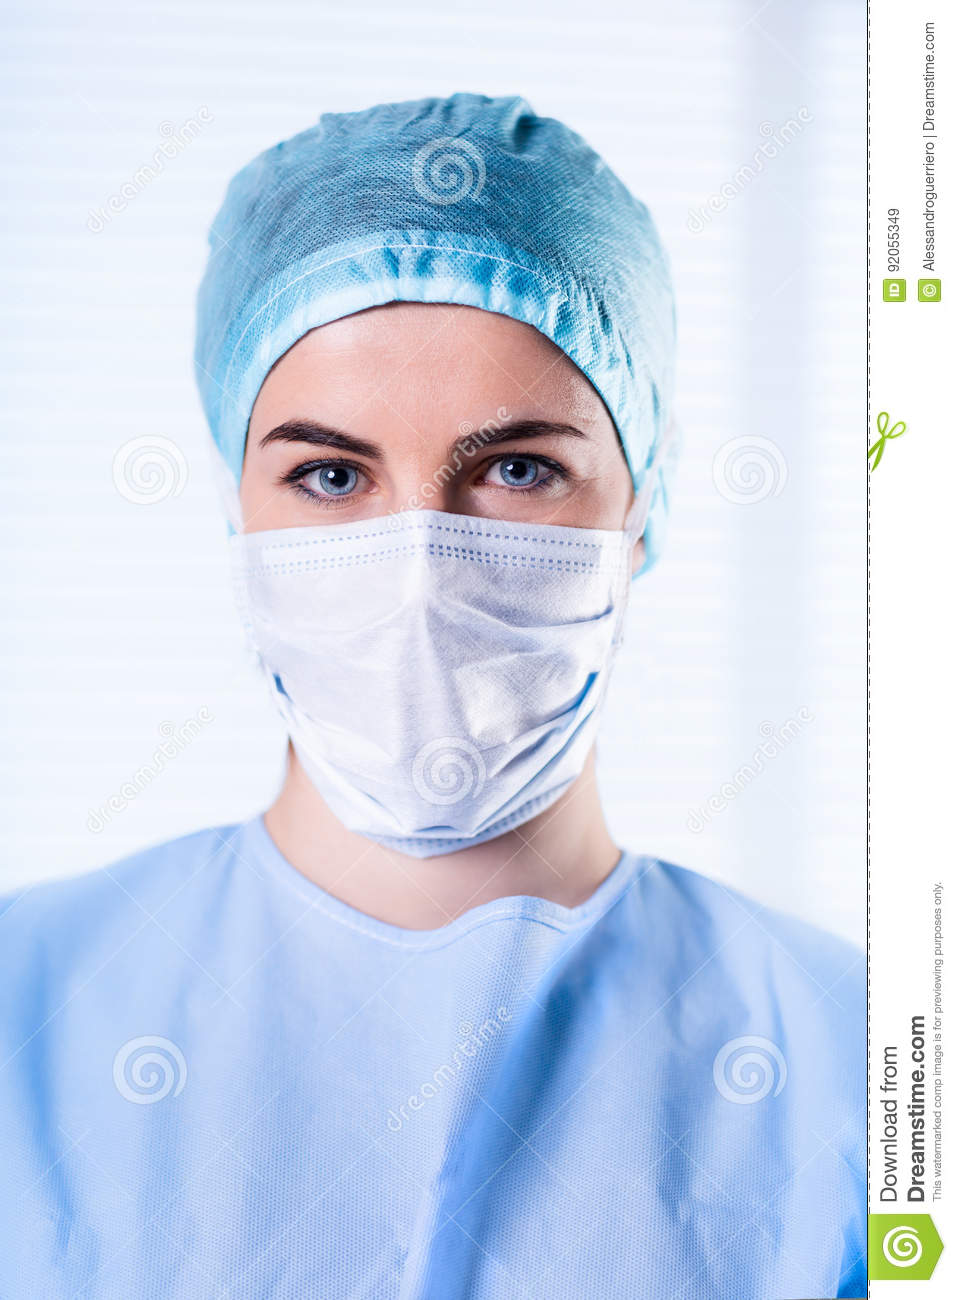mask: (216, 503, 650, 891)
